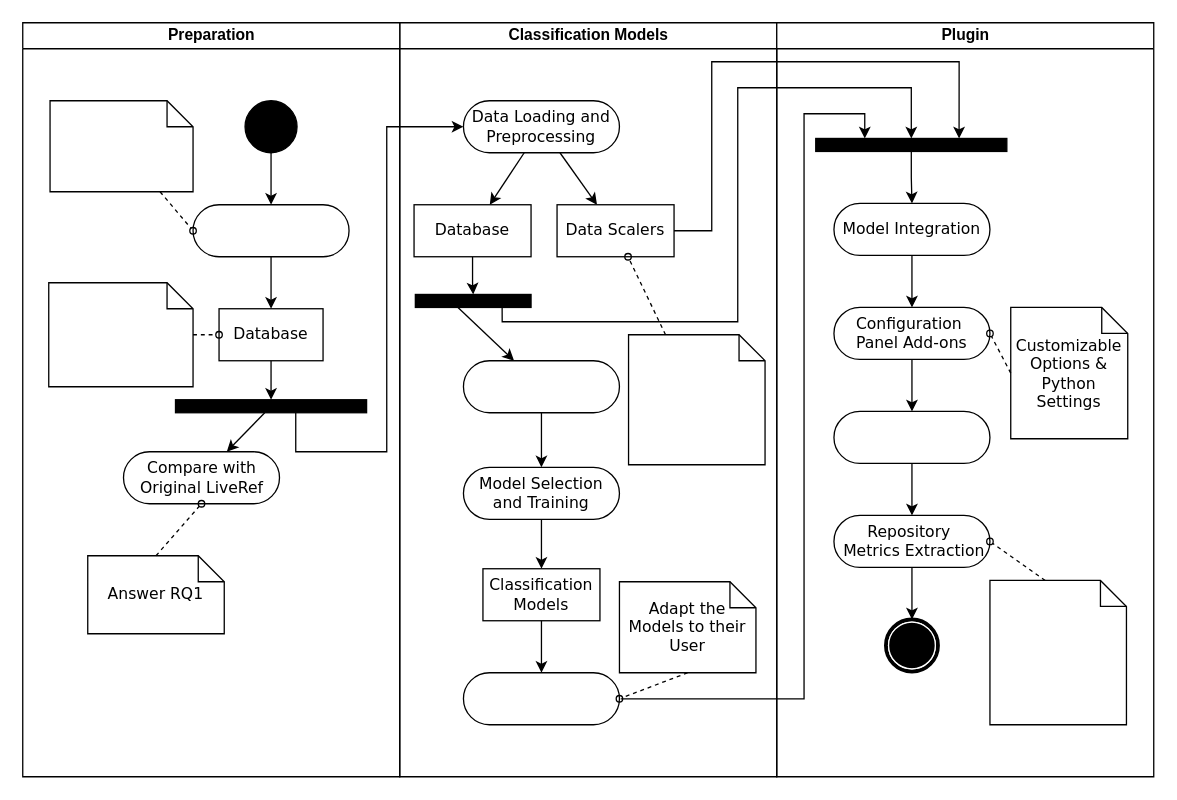
The diagram is 1177 pixels wide and 800 high, and some of its shapes have lost their labels. The shapes that lost their labels are listed below. From the top down, each one's centre as x and y in pixels, then its label:
the point at 121,145: Real-Life Instances of Refactoring Data
the point at 270,230: Data Collection
the point at 120,334: Metrics of Before and After Refactorings
the point at 540,386: Feature Selection
the point at 696,399: Saved Settings to Normalize Later Data the Same Way
the point at 911,436: Model Update Script
the point at 1057,652: Extract Metrics from User Provided Software Repositories
the point at 540,698: Model Biasing
